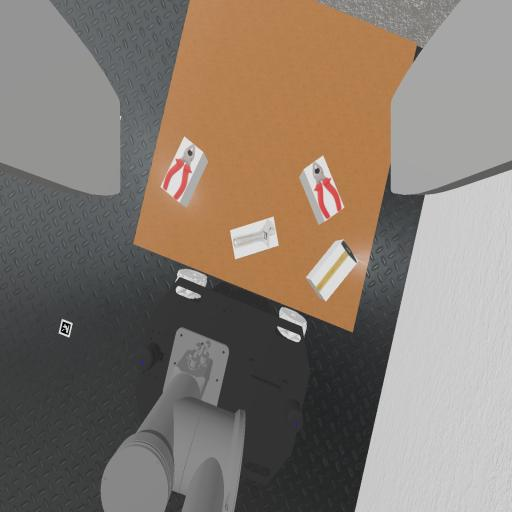hammer: (319, 241, 357, 289)
pliers: (163, 145, 195, 199), (313, 162, 342, 218)
wrench: (233, 221, 275, 247)
